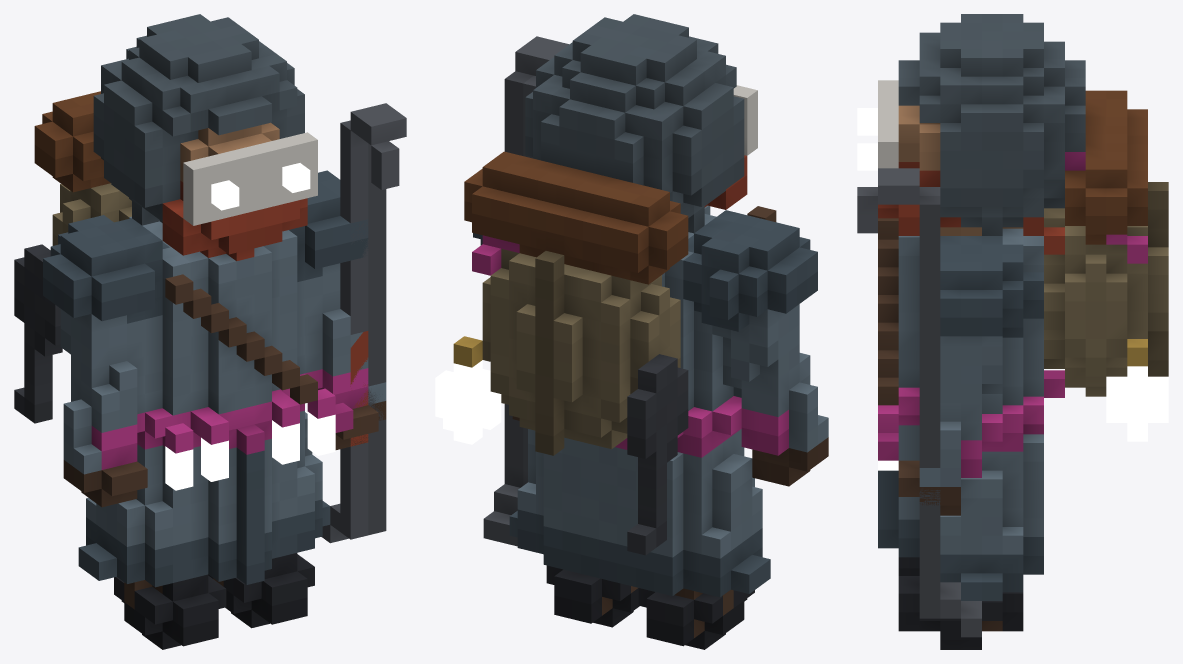
File: u_receleur__tidiane.glb
3 renders of one model, left to right at view 1: azimuth 30°, elevation 25°; view 2: azimuth 150°, elevation 25°; view 3: azimuth 270°, elevation 25°, orthographic. The views are drawn at different scales.
Visible parts, largest first — view 1: receleur_body, receleur_weapon, receleur_glow; view 2: receleur_body, receleur_weapon, receleur_glow; view 3: receleur_body, receleur_weapon, receleur_glow.
Boxes of the visible parts, box(x1,y1,x2,y2) form: receleur_body: box(14, 14, 386, 649); receleur_weapon: box(321, 103, 406, 543); receleur_glow: box(165, 163, 335, 490); receleur_body: box(453, 14, 828, 649); receleur_weapon: box(483, 36, 568, 546); receleur_glow: box(435, 360, 501, 444); receleur_body: box(878, 14, 1168, 649); receleur_weapon: box(857, 168, 981, 637); receleur_glow: box(857, 108, 1168, 470).
Bounding box in the file's own units: 0.85 × 1.55 × 0.75.
